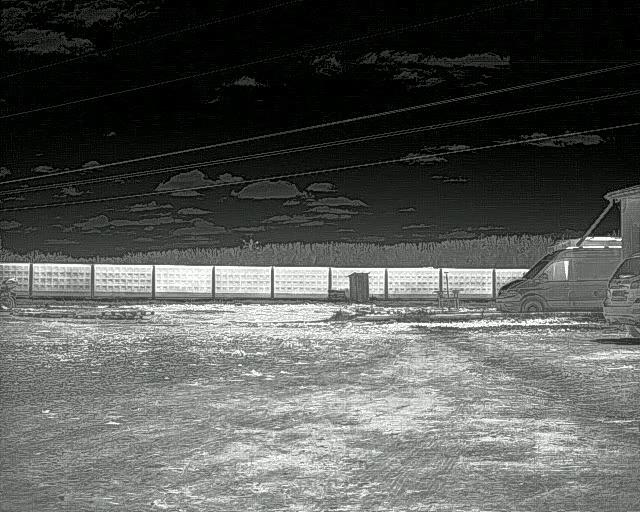drone-thermal: (241, 237, 260, 251)
